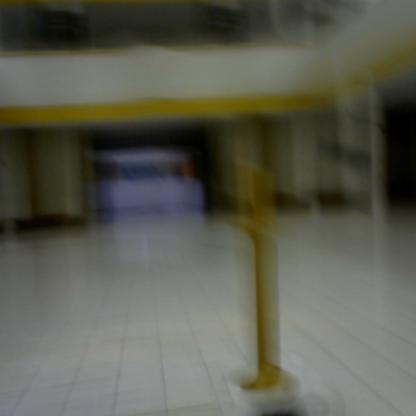pole: (219, 178, 302, 400)
